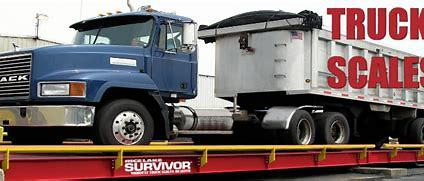Industrial Scale: (2, 139, 424, 179)
